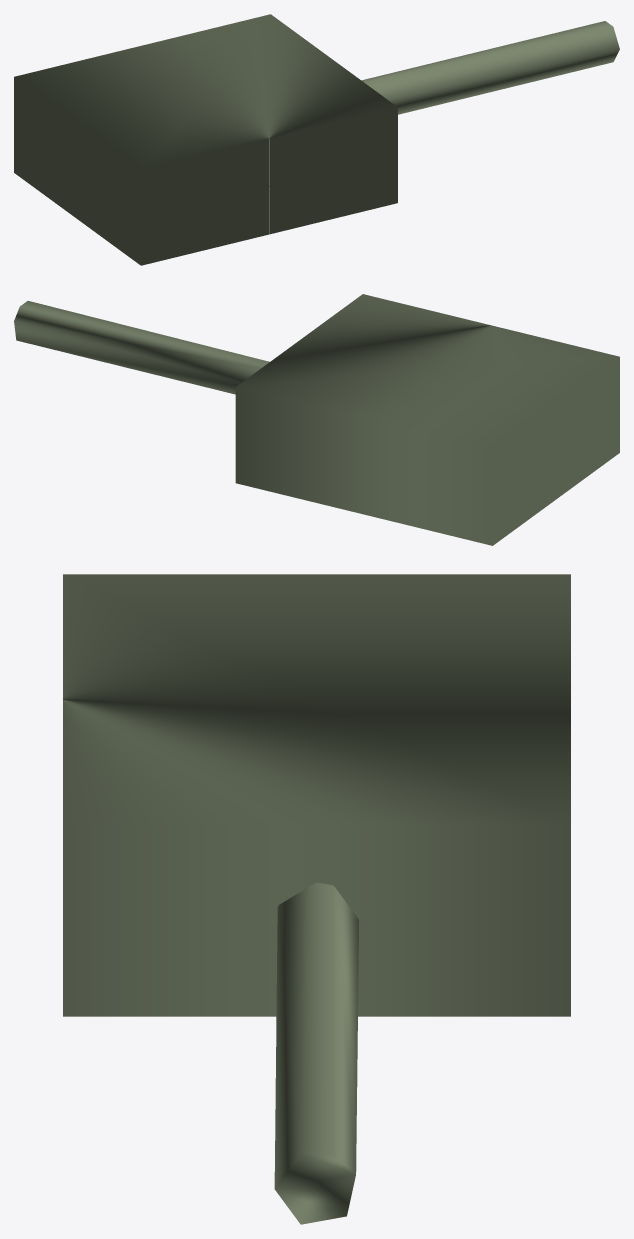
Rendered from tank_turret.lod1.glb.
3 renders of one model, top to bottom at view 1: azimuth 30°, elevation 25°; view 2: azimuth 150°, elevation 25°; view 3: azimuth 270°, elevation 25°, orthographic. The views are drawn at different scales.
Bounding box in the file's own units: 2.9 × 0.5 × 1.2.
